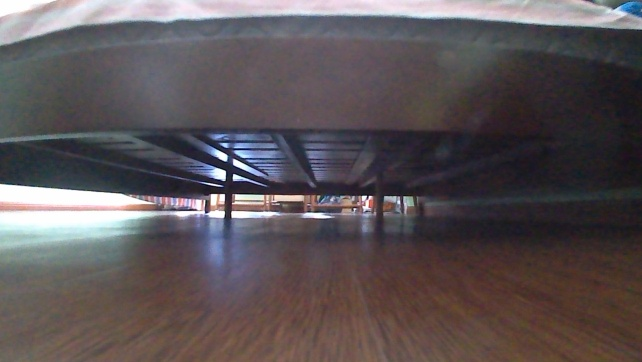bed1: (0, 0, 641, 220)
